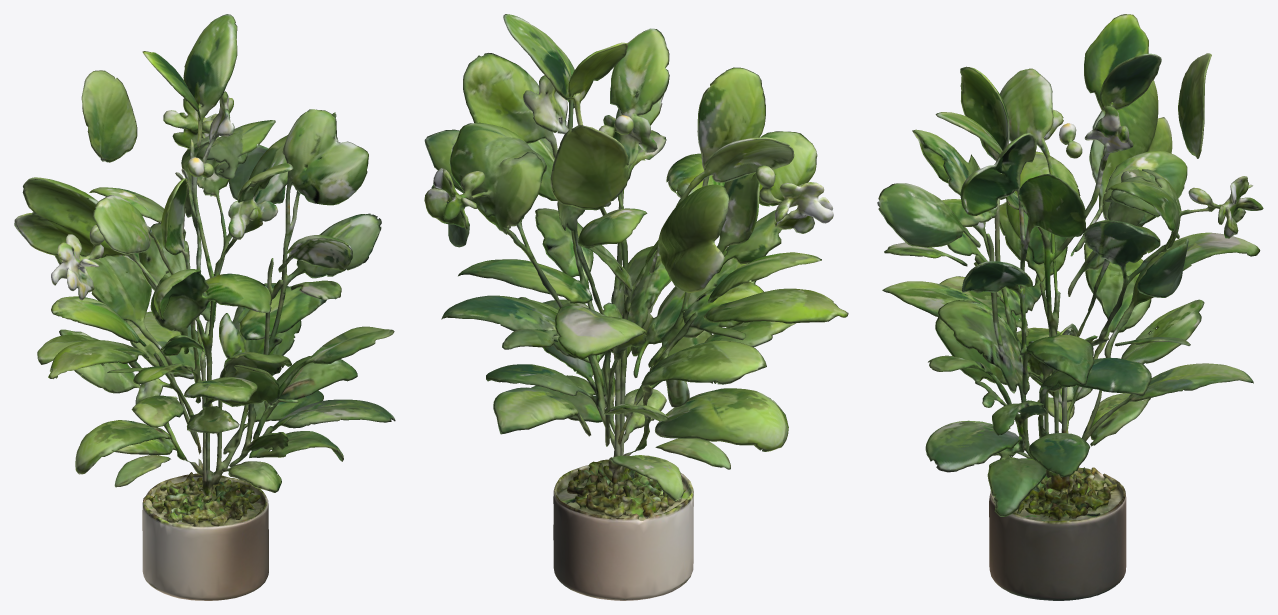
Rendered from nagkesar.glb.
The picture shows the model from 3 angles, left to right: view 1: azimuth 30°, elevation 25°; view 2: azimuth 150°, elevation 25°; view 3: azimuth 270°, elevation 25°; orthographic projection. The views are drawn at different scales.
Size of the model in its own units: 1.29 by 2 by 1.26.
1 material, 1 textured.
